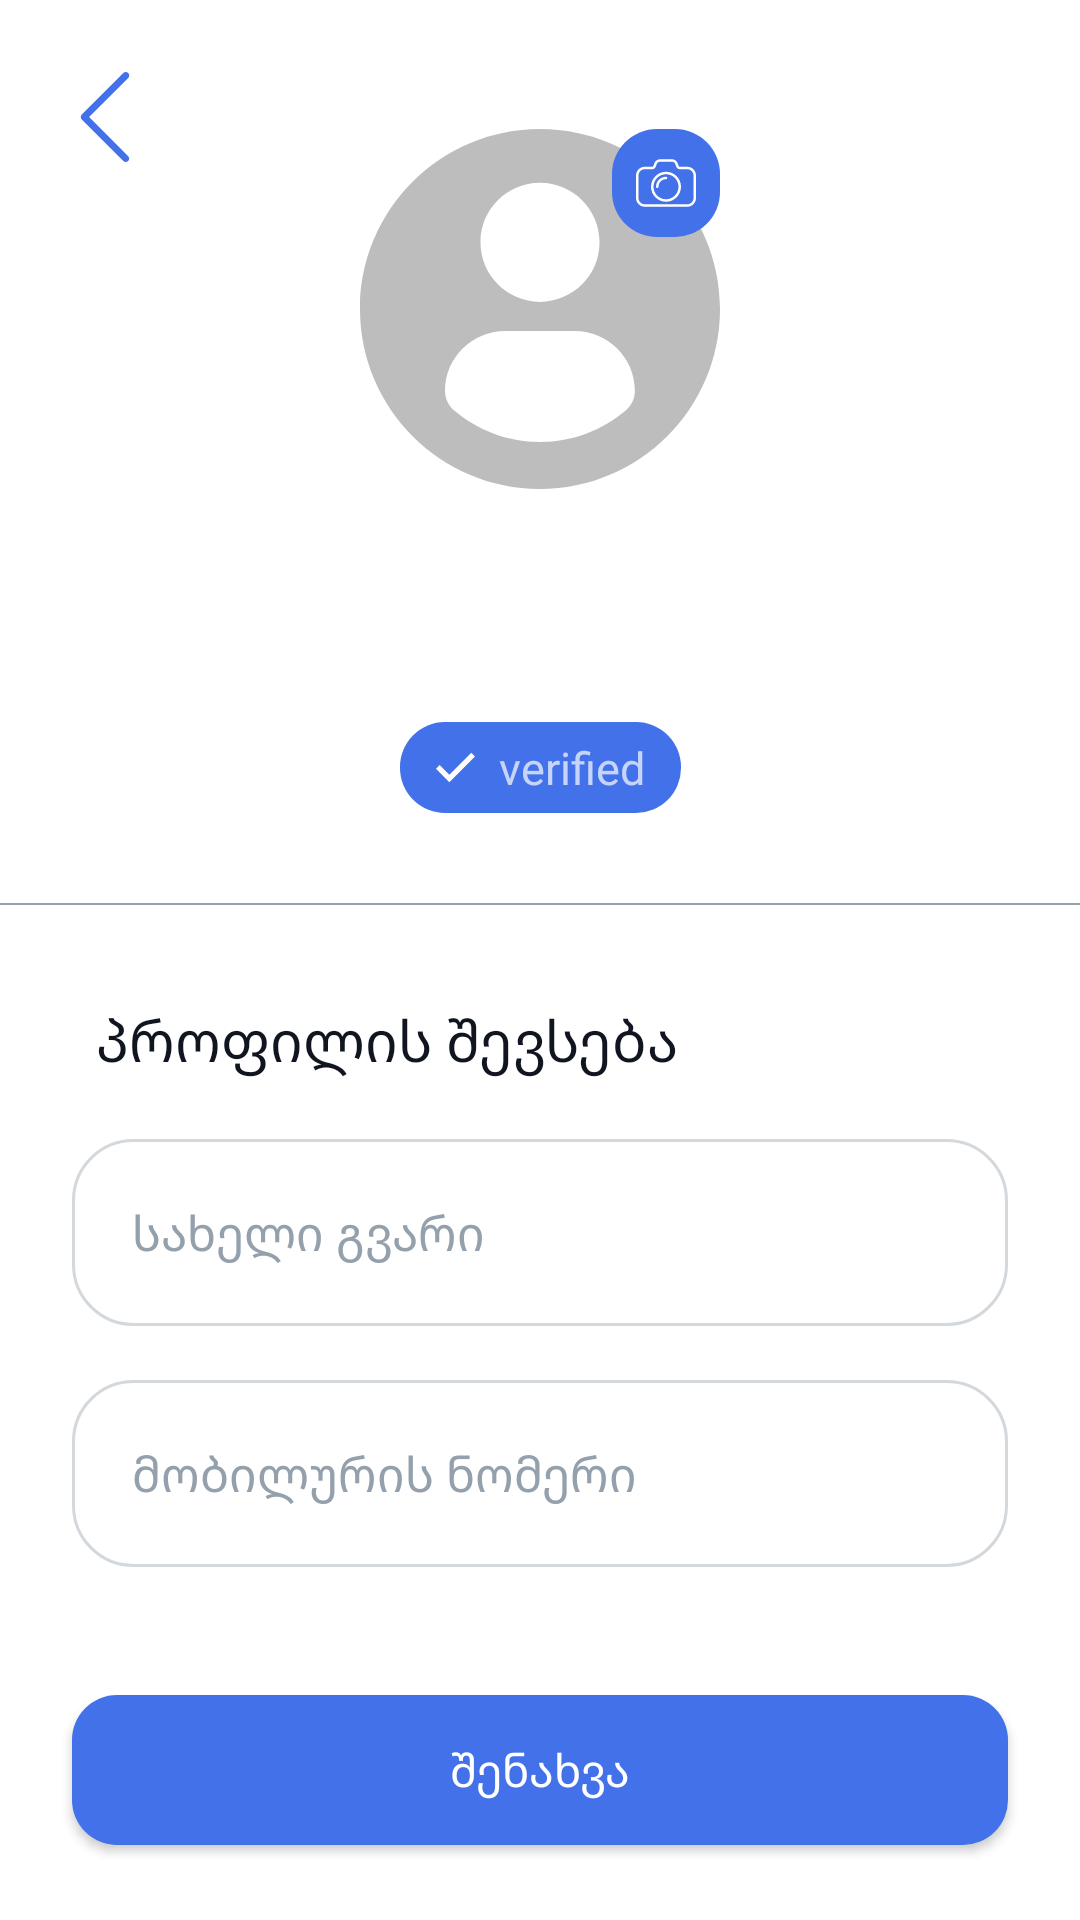

Screen size 1080 x 1920. Icon name, then its box in pixels as {"x1": x1, "y1": y1, "x2": x2, "y2": y2}:
back: {"x1": 80, "y1": 72, "x2": 130, "y2": 162}
